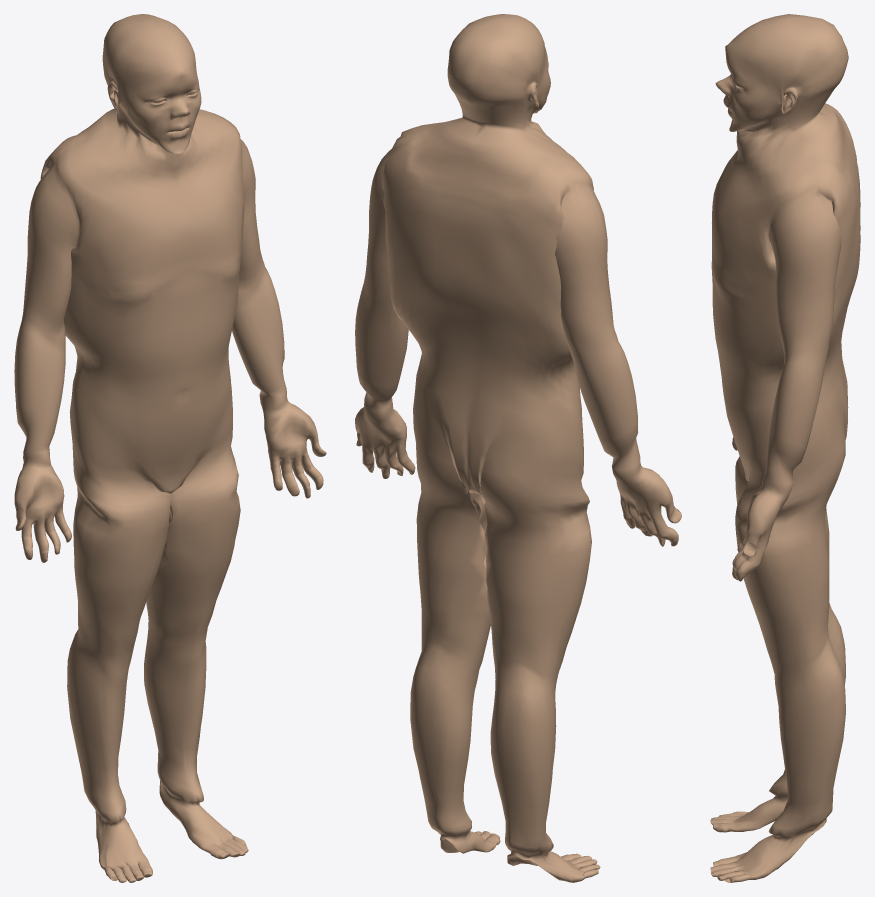
The model's file is skin-candidate-r22.glb.
3 views of the same model, side by side, from view 1: azimuth 30°, elevation 25°; view 2: azimuth 150°, elevation 25°; view 3: azimuth 270°, elevation 25° (orthographic). The views are drawn at different scales.
Parts seen in each view (by area): view 1: MakeHuman_AT10_skin_fit_candidate_r22; view 2: MakeHuman_AT10_skin_fit_candidate_r22; view 3: MakeHuman_AT10_skin_fit_candidate_r22.
Boxes of the visible parts, x1,y1,x2,y2 form: MakeHuman_AT10_skin_fit_candidate_r22: [14, 14, 326, 882]; MakeHuman_AT10_skin_fit_candidate_r22: [355, 14, 681, 882]; MakeHuman_AT10_skin_fit_candidate_r22: [710, 14, 860, 882].
Bounding box in the file's own units: 0.6719 × 1.71 × 0.28.
